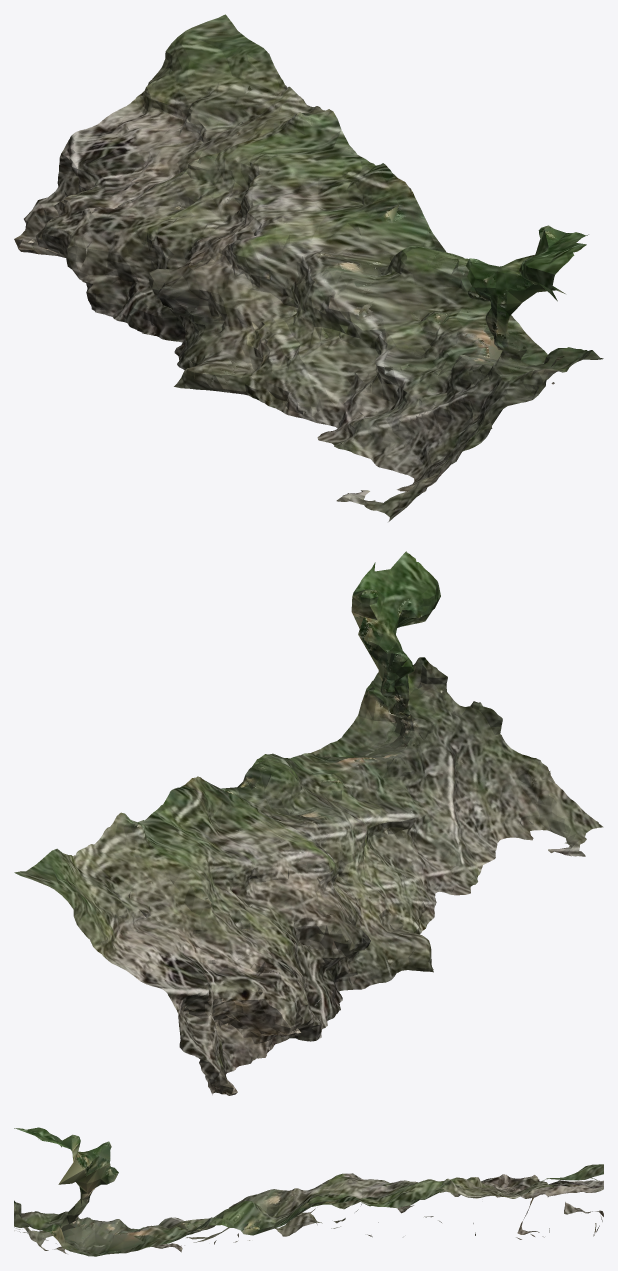
3 views of the same model, one above another, from view 1: azimuth 30°, elevation 25°; view 2: azimuth 150°, elevation 25°; view 3: azimuth 270°, elevation 25° (orthographic). The views are drawn at different scales.
Bounding box in the file's own units: 0.9397 × 0.8465 × 2.53.
2 materials, 2 textured.
